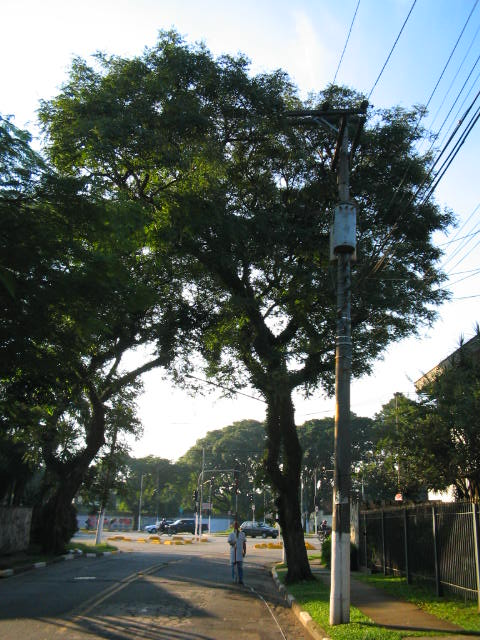crown: (39, 28, 466, 410)
stem: (263, 478, 322, 583), (33, 468, 95, 555)
stick: (226, 469, 243, 585)
tree: (37, 26, 466, 586)
